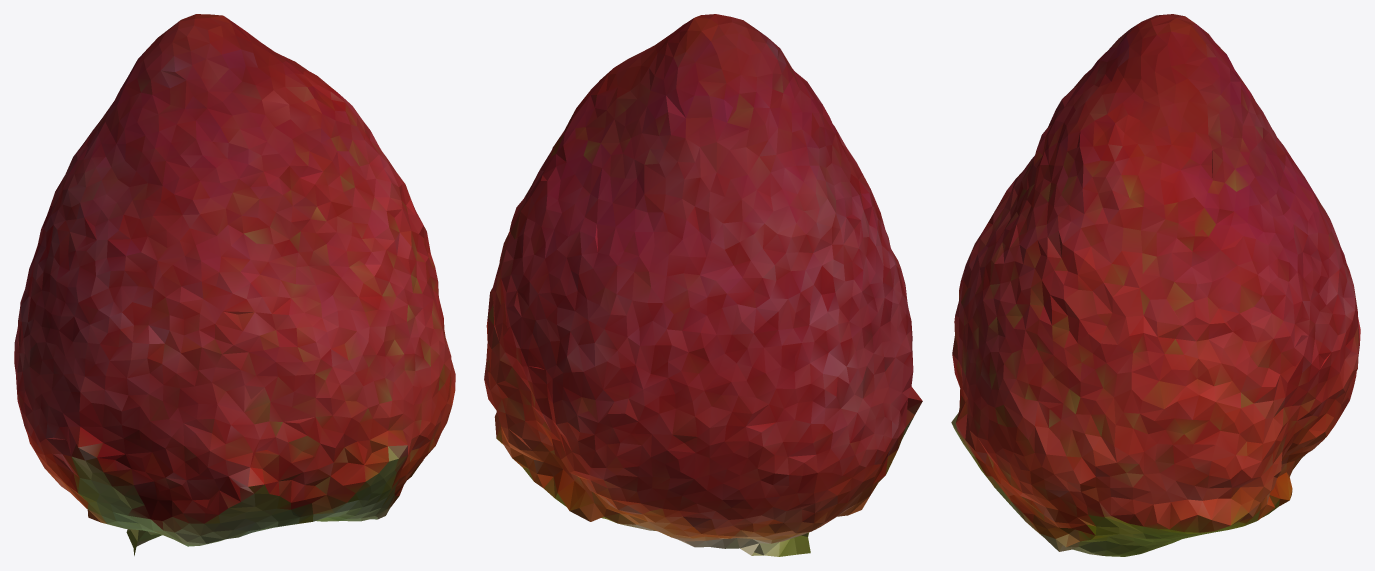
3 renders of one model, left to right at view 1: azimuth 30°, elevation 25°; view 2: azimuth 150°, elevation 25°; view 3: azimuth 270°, elevation 25°, orthographic. The views are drawn at different scales.
Visible parts, largest first — view 1: strawberry_09_visual; view 2: strawberry_09_visual; view 3: strawberry_09_visual.
Part boxes in pixels (bbox=[...]): strawberry_09_visual: bbox=[14, 14, 455, 555]; strawberry_09_visual: bbox=[484, 14, 922, 556]; strawberry_09_visual: bbox=[951, 14, 1360, 556].
Bounding box in the file's own units: 0.7333 × 0.7147 × 0.9547.
